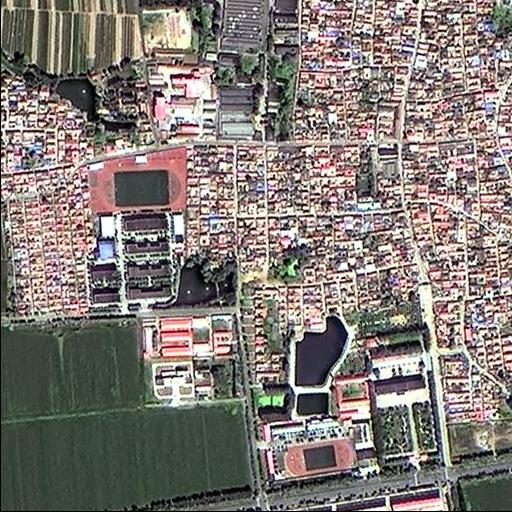school: (86, 146, 188, 316), (252, 413, 361, 489)
